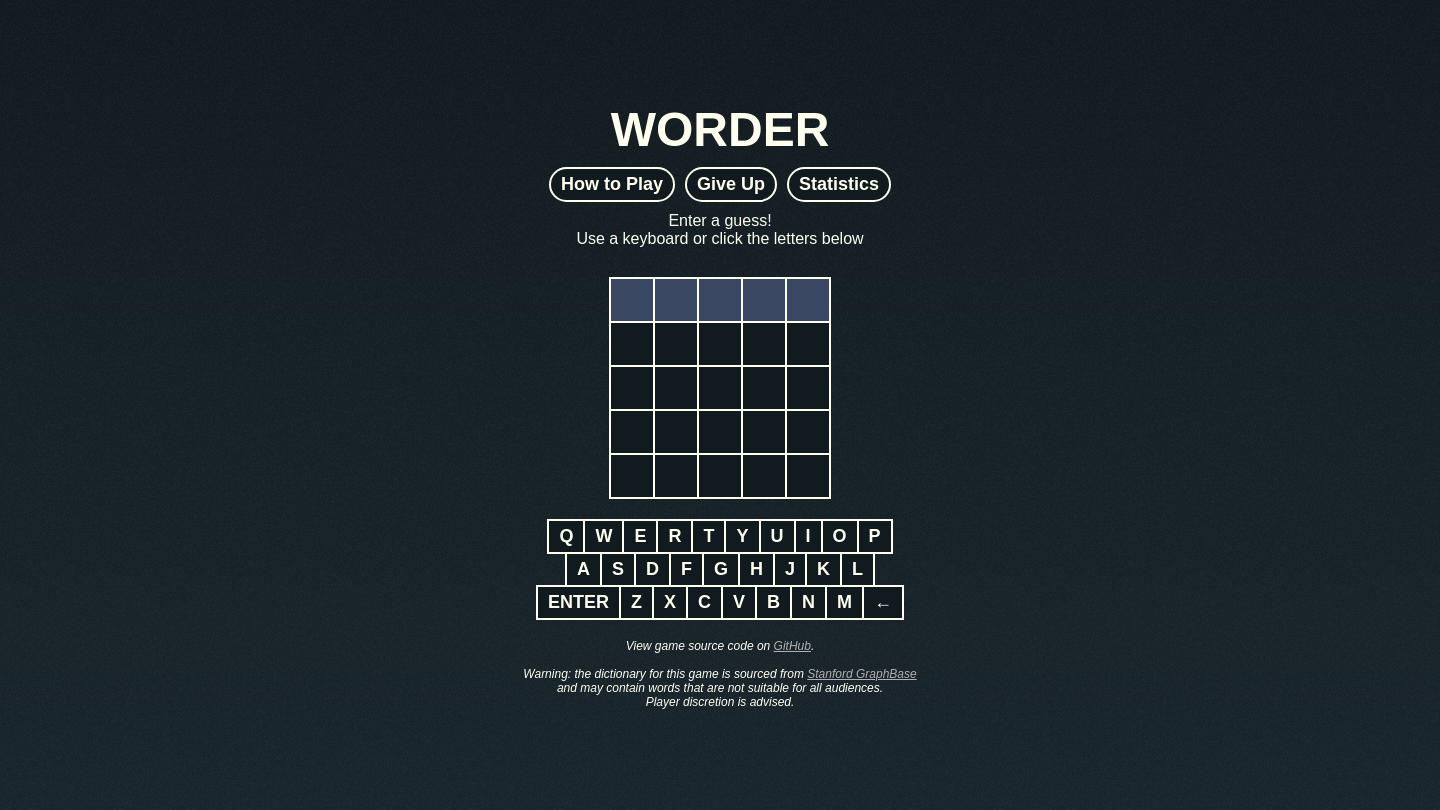
Test case: App Component › should add letters sequentially
Click the button "H".
click(756, 569)  # box [738,552,775,586]
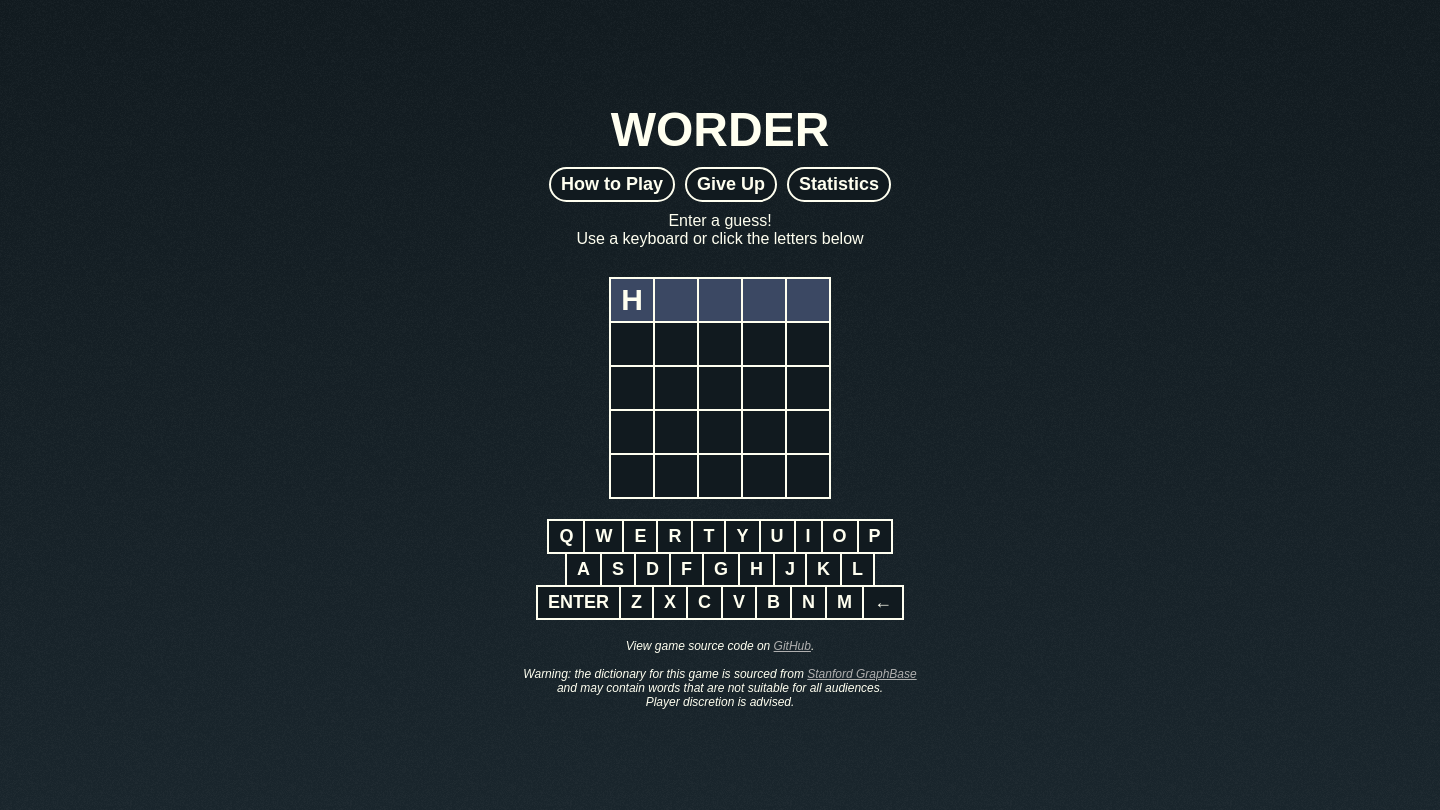
Click the button "E".
click(640, 536)  # box [622,518,658,554]
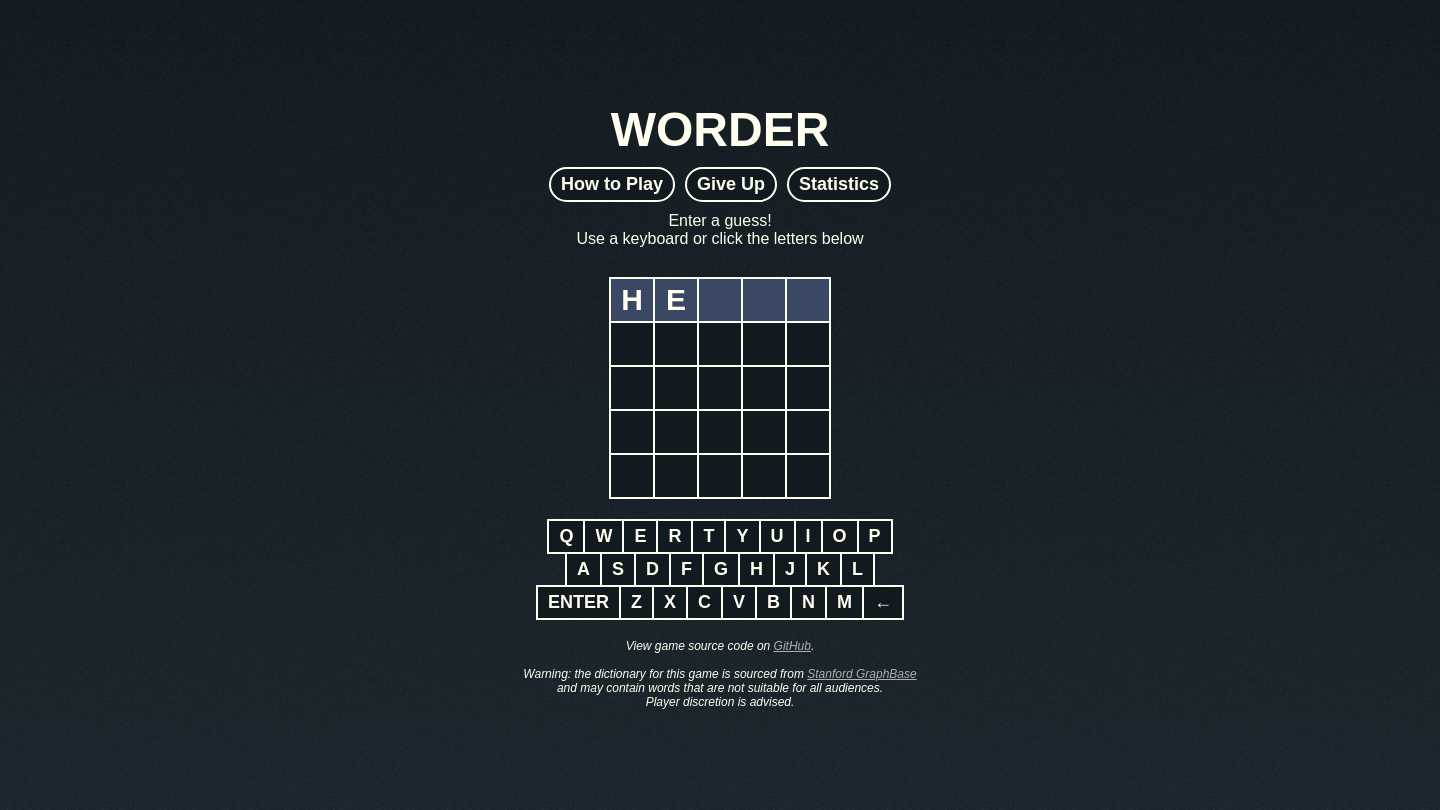
expect the text with class "guess-square" reads "H": met, box [621,282,643,316]
expect the text with class "guess-square" reads "E": met, box [666,282,686,316]
